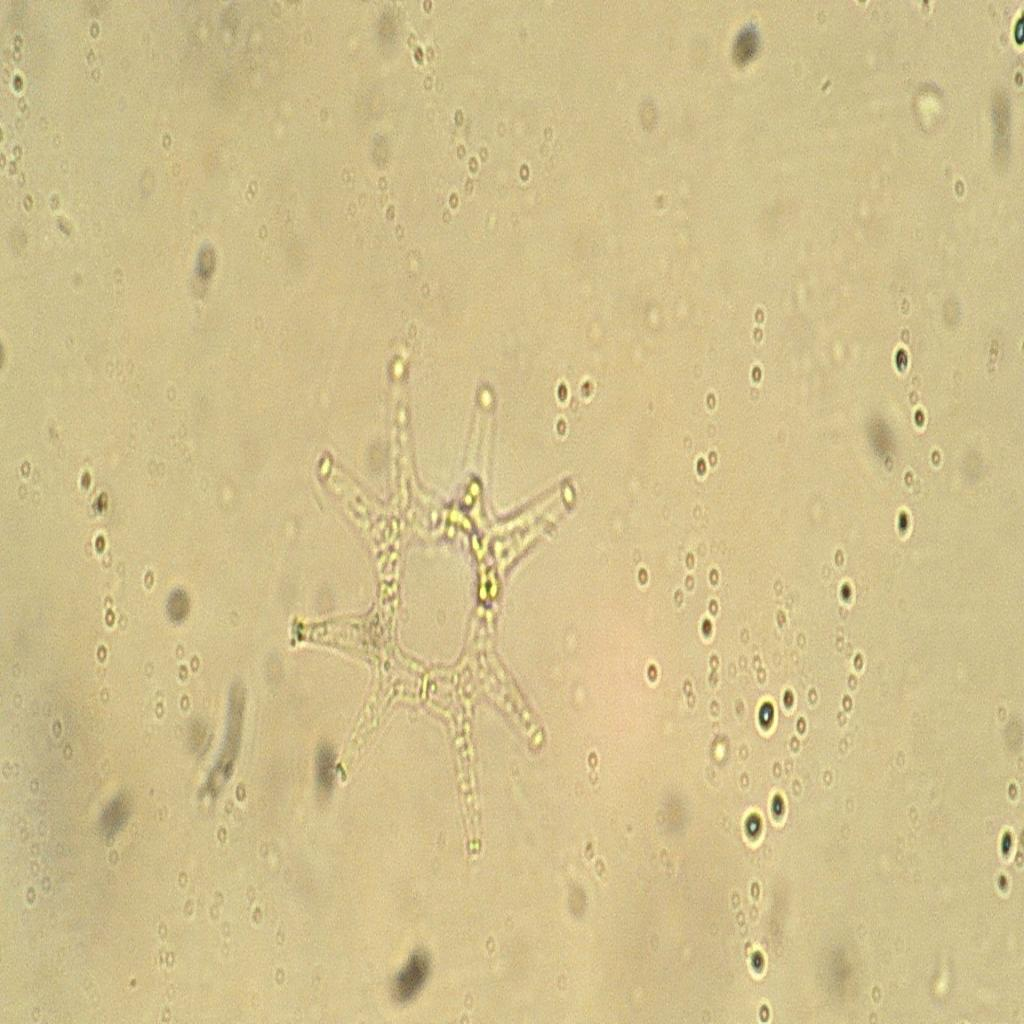Pediastrum_75TH: (274, 340, 590, 878)
